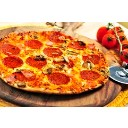pepperonipizza: (2, 31, 109, 94)
